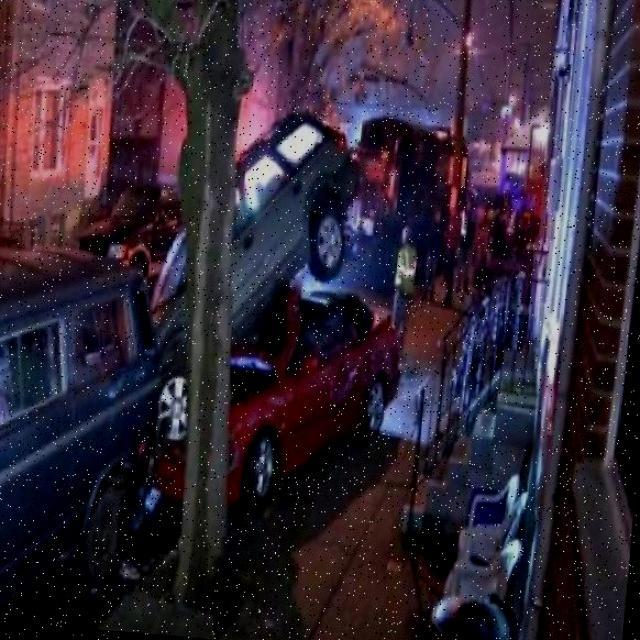accident: (0, 257, 336, 575), (157, 130, 366, 489)
